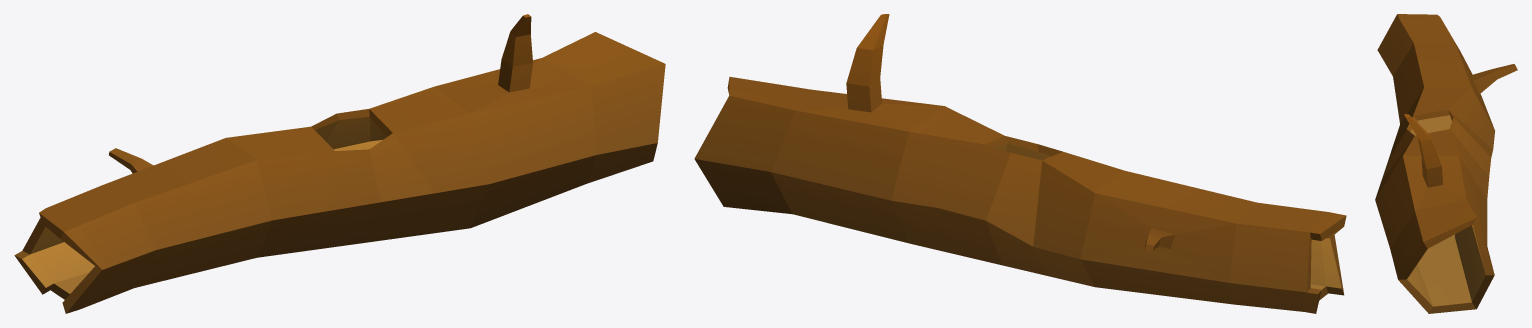
The model's file is Log_1.fbx.
3 renders of one model, left to right at view 1: azimuth 30°, elevation 25°; view 2: azimuth 150°, elevation 25°; view 3: azimuth 270°, elevation 25°, orthographic. The views are drawn at different scales.
Parts seen in each view (by area): view 1: Log_1; view 2: Log_1; view 3: Log_1.
Boxes of the visible parts, box(x1,y1,x2,y2) form: Log_1: box(14, 14, 665, 313); Log_1: box(694, 14, 1346, 313); Log_1: box(1375, 14, 1517, 313).
Size of the model in its own units: 712 by 213 by 183.
